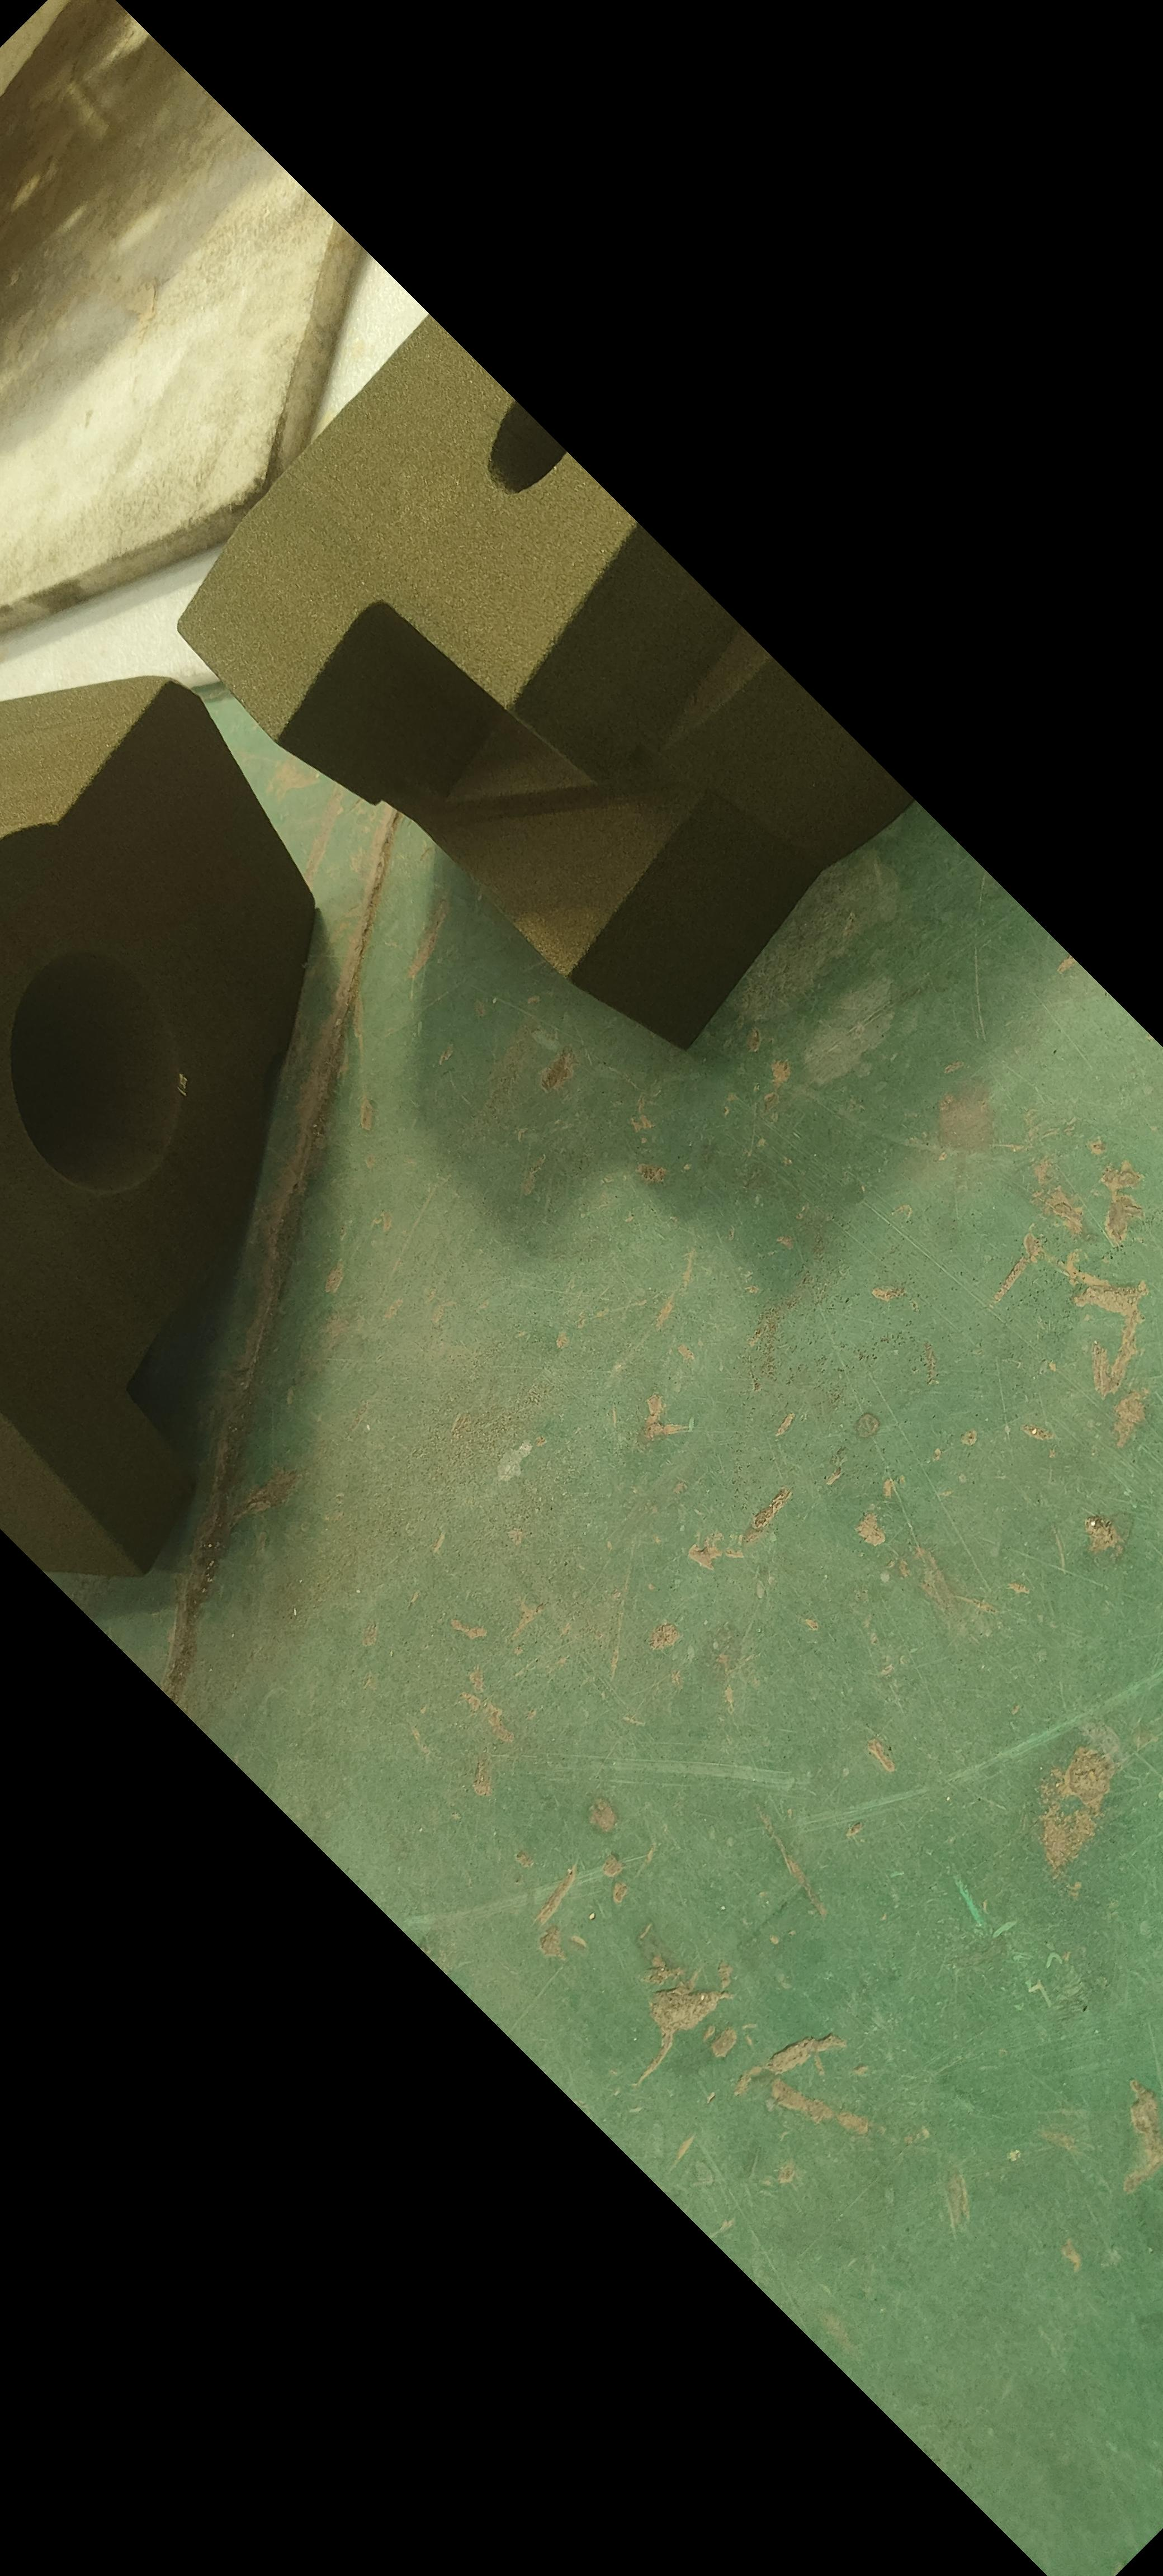pouring hole: (11, 951, 179, 1191)
